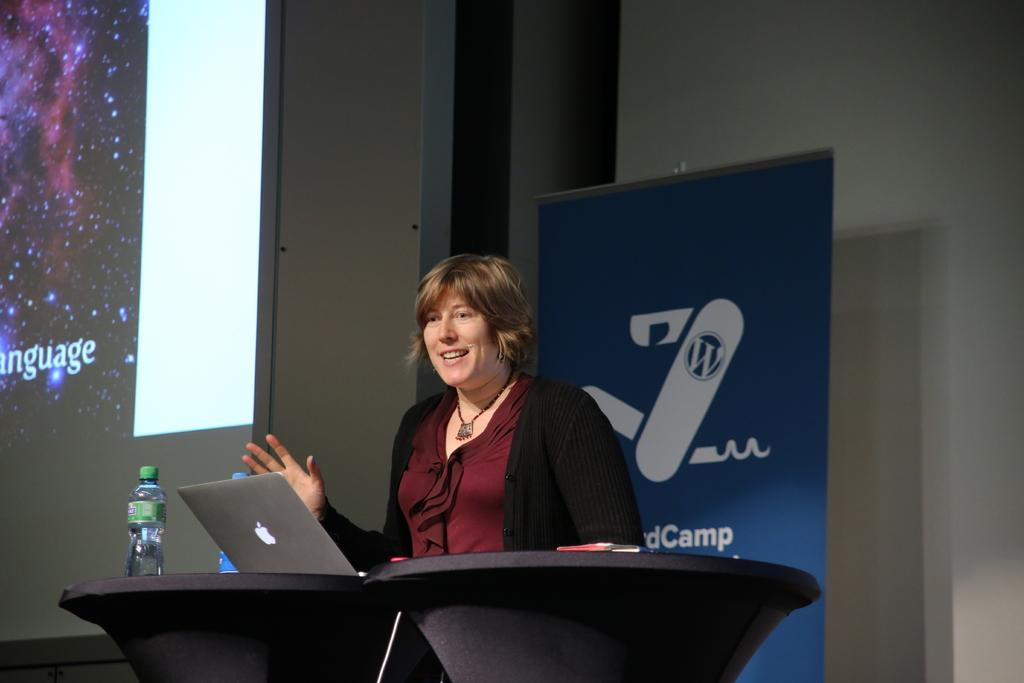Laptop: (173, 470, 368, 577)
